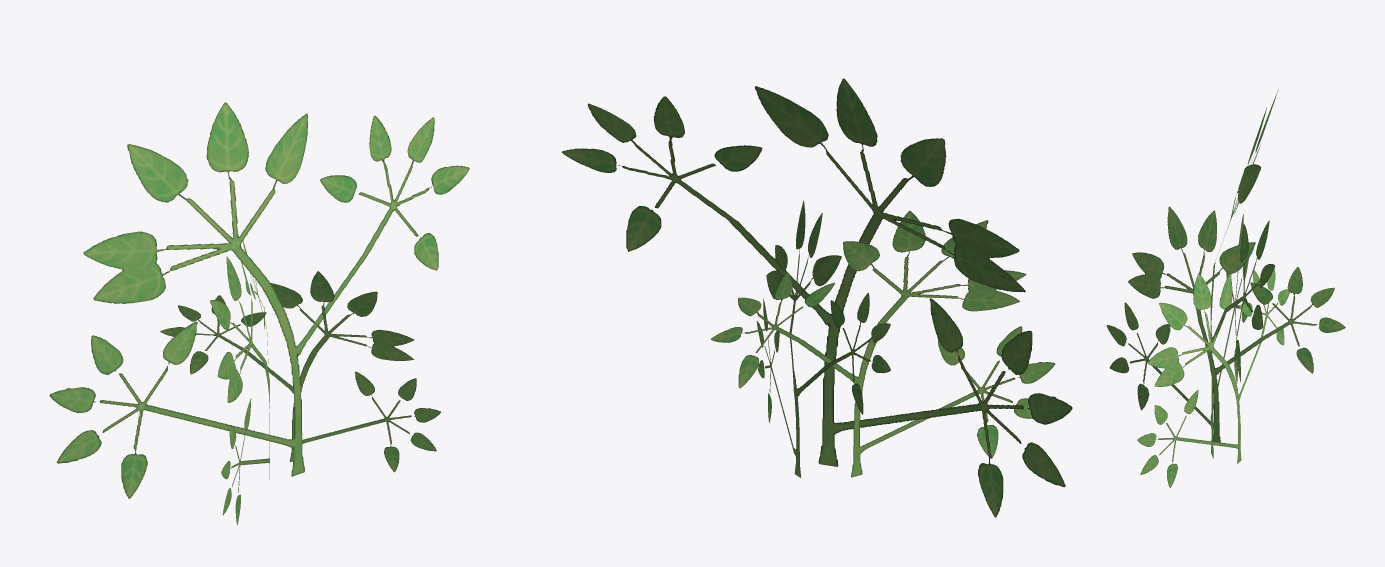
File: LeafSetC_13.fbx
The picture shows the model from 3 angles, left to right: view 1: azimuth 30°, elevation 25°; view 2: azimuth 150°, elevation 25°; view 3: azimuth 270°, elevation 25°; orthographic projection. The views are drawn at different scales.
Parts seen in each view (by area): view 1: LeafSetC_13; view 2: LeafSetC_13; view 3: LeafSetC_13.
Part boxes in pixels (<box>): LeafSetC_13: <box>49,102,469,525</box>; LeafSetC_13: <box>562,78,1072,517</box>; LeafSetC_13: <box>1106,89,1345,487</box>.
Bounding box in the file's own units: 1.11 × 0.8919 × 0.629.
